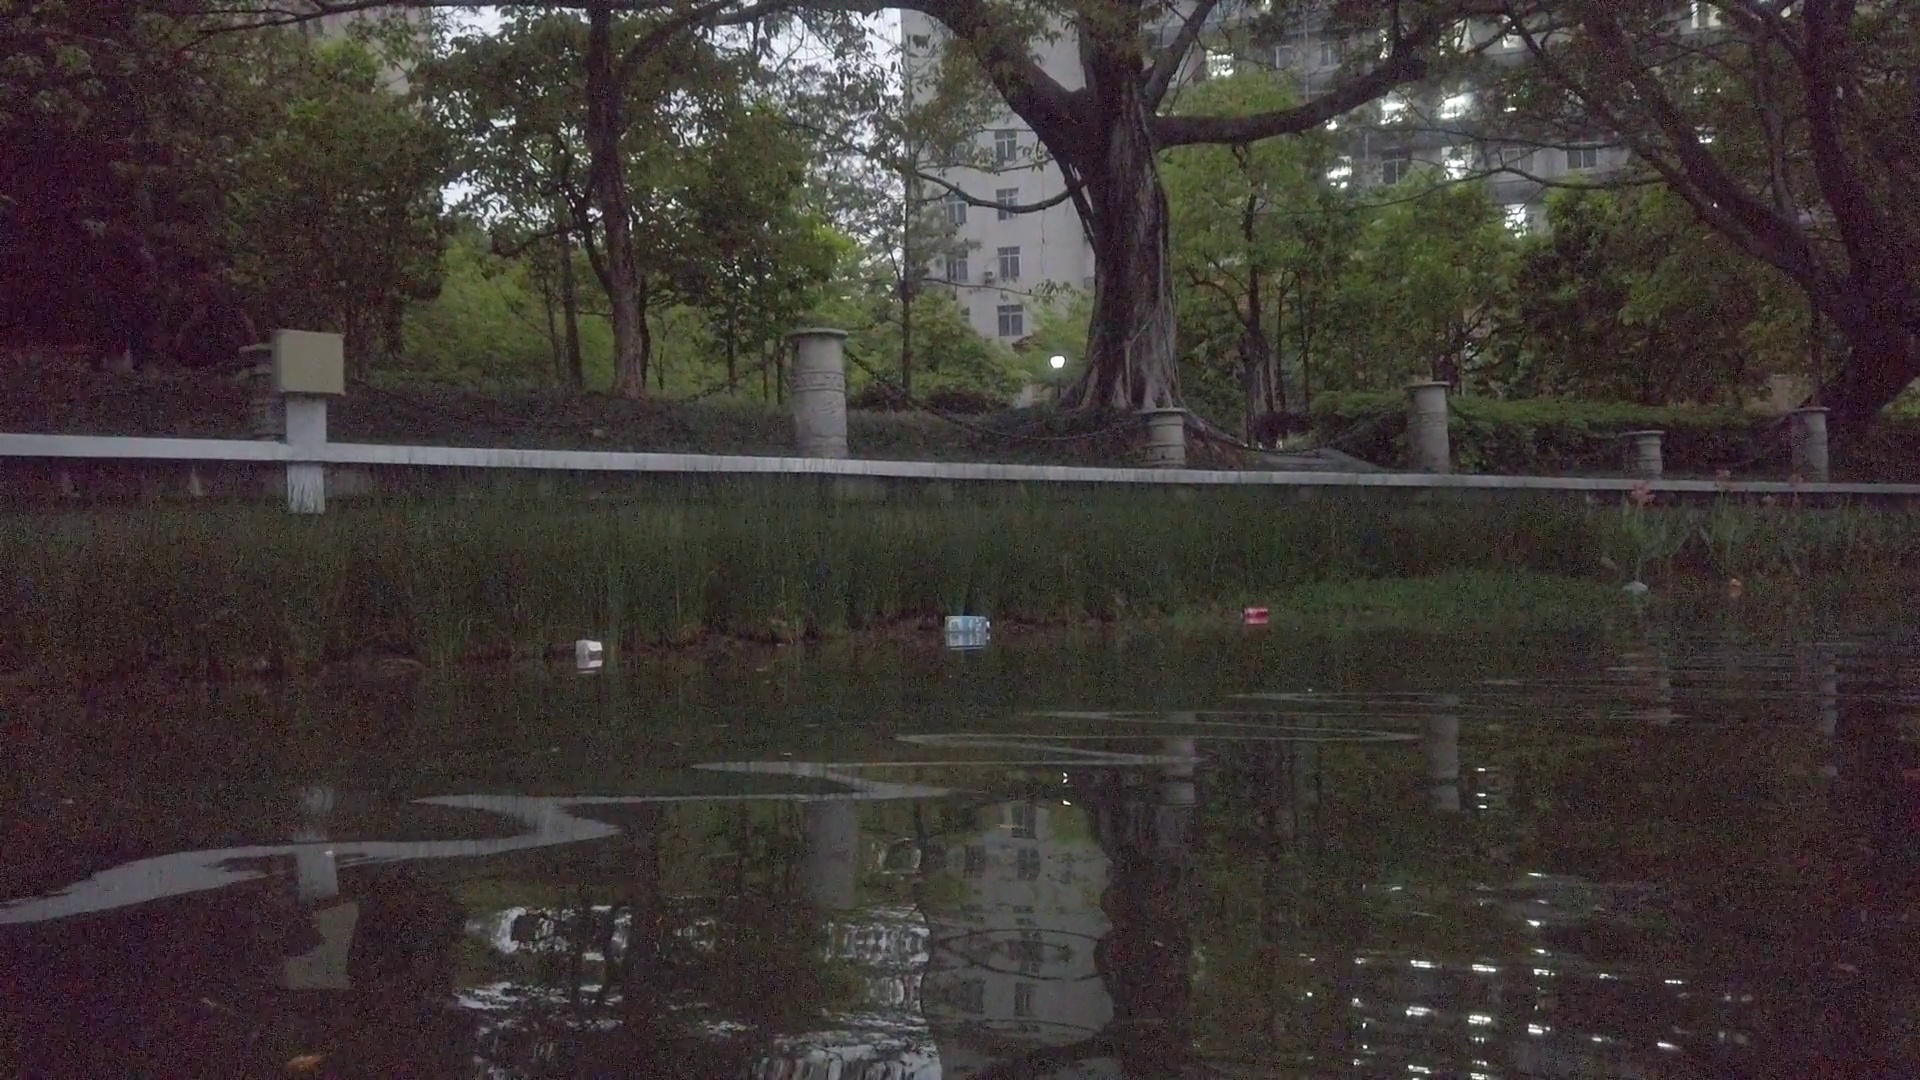bottle: (1619, 579, 1655, 608), (1726, 576, 1746, 596), (1242, 608, 1273, 620)
carton: (944, 615, 992, 634), (576, 640, 603, 665)
